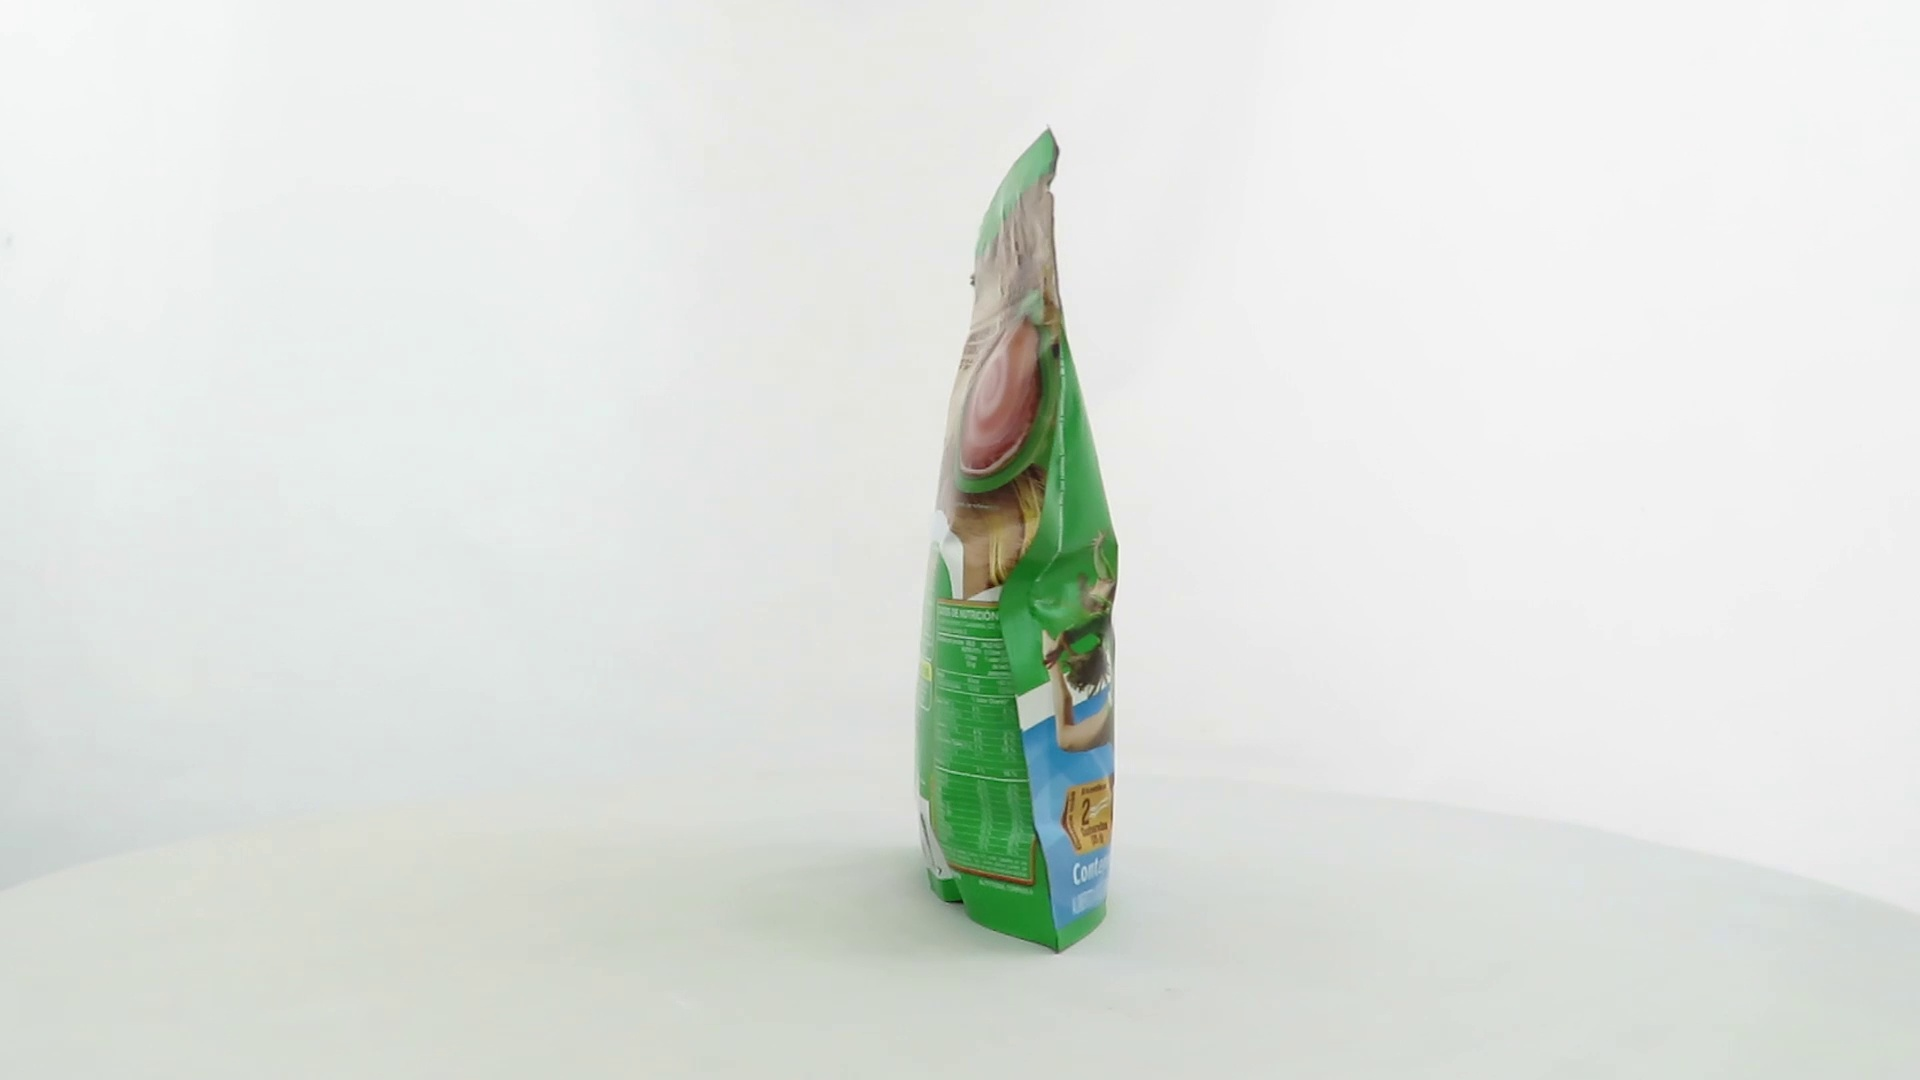COL0170205DYP20000: (909, 123, 1124, 961)
